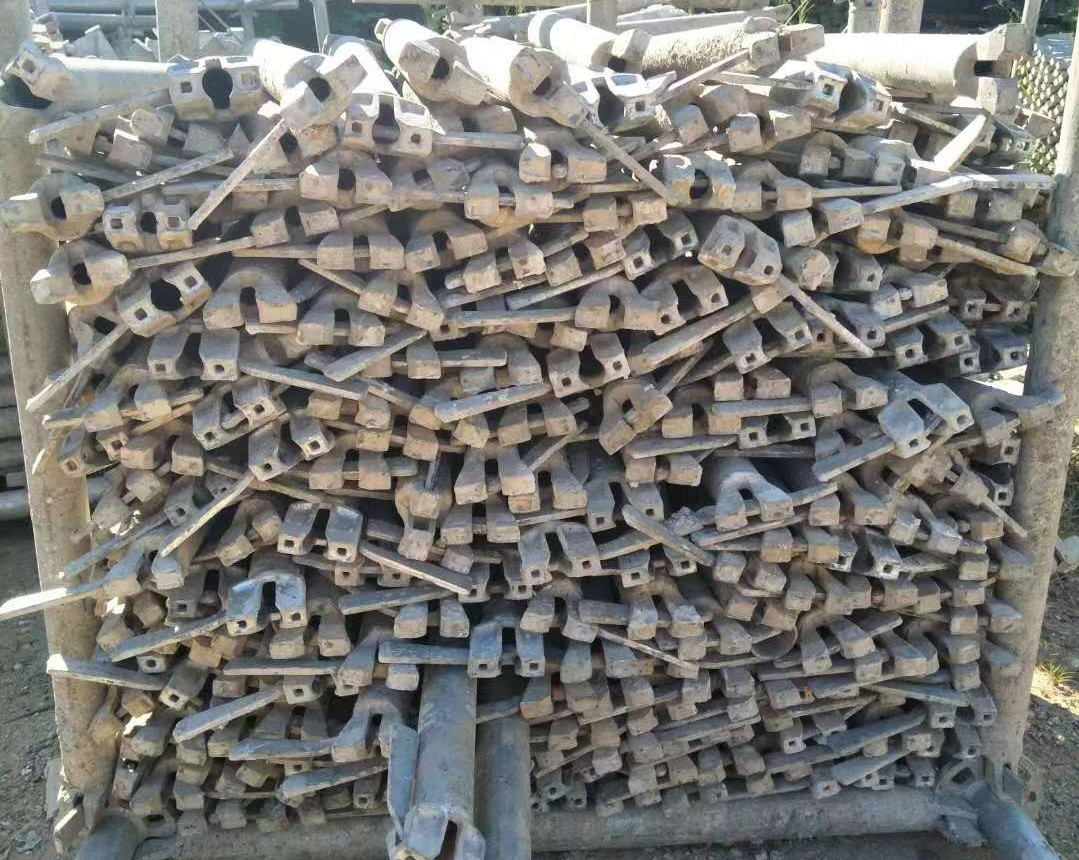NHsquare_steel: (395, 42, 489, 107), (281, 56, 368, 126), (510, 50, 589, 127), (757, 250, 827, 312), (58, 122, 150, 168), (674, 85, 746, 142), (3, 189, 103, 230), (128, 110, 223, 153), (31, 258, 127, 300), (980, 24, 1025, 112), (601, 396, 670, 453), (546, 238, 626, 287), (91, 473, 159, 530), (248, 129, 337, 172), (357, 288, 445, 331), (780, 200, 861, 246), (724, 111, 809, 153), (1003, 229, 1077, 277), (253, 206, 339, 247), (393, 159, 463, 209), (747, 24, 827, 67), (400, 231, 485, 271), (465, 251, 540, 296), (408, 406, 489, 447), (978, 403, 1055, 446), (924, 459, 989, 509), (199, 298, 298, 330), (83, 397, 171, 433), (659, 167, 735, 208), (95, 606, 164, 651), (295, 172, 393, 203), (302, 397, 392, 430), (89, 697, 153, 743), (872, 280, 947, 319), (520, 152, 606, 186), (461, 188, 555, 219), (218, 519, 280, 566), (311, 242, 404, 273), (806, 383, 889, 417), (873, 159, 951, 195), (116, 447, 205, 478), (452, 471, 535, 504), (889, 518, 961, 556), (305, 465, 390, 497), (800, 636, 873, 673), (238, 764, 299, 808), (857, 218, 937, 251), (582, 199, 666, 230), (497, 412, 577, 444), (716, 556, 785, 593), (399, 492, 436, 561), (574, 302, 659, 332), (100, 567, 185, 597), (731, 180, 808, 213), (295, 323, 385, 351), (664, 409, 742, 441), (623, 457, 703, 488), (593, 740, 663, 775), (712, 499, 793, 529), (358, 354, 441, 383), (266, 633, 354, 660), (956, 551, 1032, 582), (441, 519, 522, 548), (953, 656, 1022, 690), (880, 462, 922, 517), (712, 374, 794, 402), (808, 500, 884, 530), (727, 597, 796, 630), (327, 730, 396, 763), (173, 764, 244, 796), (390, 615, 471, 643), (662, 784, 727, 818), (800, 150, 876, 179), (463, 364, 539, 393), (522, 612, 593, 643), (942, 194, 1023, 221), (730, 686, 800, 717), (627, 703, 699, 733), (745, 763, 808, 797), (625, 763, 698, 792), (763, 536, 838, 564), (825, 256, 883, 292), (946, 610, 1022, 637), (109, 740, 143, 799), (521, 693, 599, 718), (345, 666, 420, 692), (678, 678, 757, 702), (253, 722, 328, 747), (784, 586, 853, 613), (682, 634, 753, 660), (630, 612, 703, 637), (698, 759, 768, 785), (919, 586, 983, 614), (856, 656, 925, 681), (921, 637, 980, 666), (598, 792, 661, 819), (511, 491, 588, 513), (258, 811, 329, 834), (181, 813, 249, 837), (586, 692, 654, 716), (849, 588, 919, 609), (549, 731, 622, 751), (135, 793, 205, 813), (211, 677, 274, 699)
THsquare_steel: (122, 270, 212, 333), (703, 226, 781, 286), (810, 73, 889, 126), (168, 60, 263, 104), (248, 433, 331, 483), (623, 224, 697, 280), (734, 324, 811, 375), (1, 48, 44, 126), (550, 355, 630, 395), (106, 208, 192, 245), (658, 287, 728, 332), (165, 483, 234, 526), (895, 326, 970, 364), (583, 93, 655, 130), (57, 437, 123, 477), (953, 342, 1028, 376), (468, 649, 549, 680), (619, 558, 700, 588), (836, 546, 901, 583), (145, 355, 238, 380), (740, 417, 811, 449), (585, 502, 665, 530), (990, 439, 1022, 505), (523, 554, 601, 581), (930, 700, 997, 730), (458, 580, 535, 605), (974, 130, 1038, 160), (284, 680, 355, 707), (524, 794, 589, 817), (917, 738, 981, 759)
THsquare_steel_blocked: (889, 400, 973, 457), (190, 396, 278, 450), (274, 528, 356, 564), (807, 321, 889, 353), (224, 607, 310, 635), (961, 295, 1030, 324), (335, 565, 409, 590), (810, 769, 873, 798), (780, 727, 852, 752), (166, 595, 229, 619), (874, 771, 939, 792)
